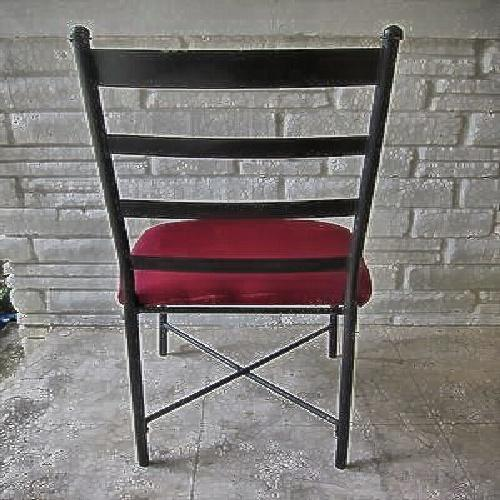chair: (76, 18, 411, 441)
